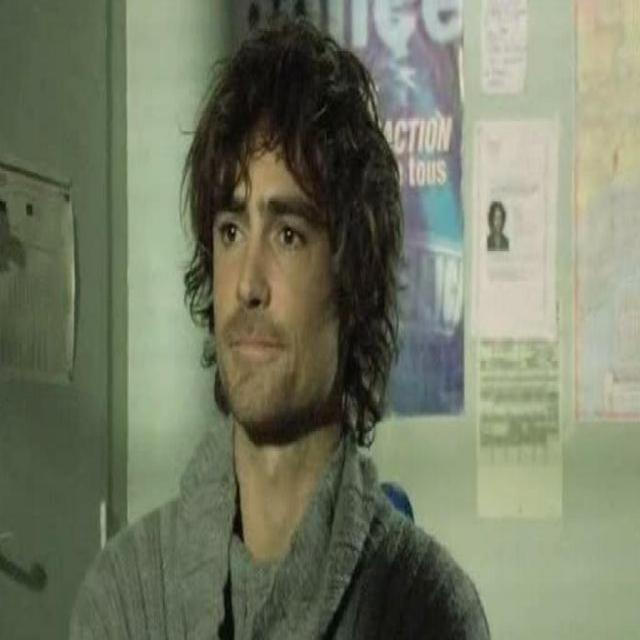nomask: (214, 111, 341, 418), (492, 206, 503, 234)
